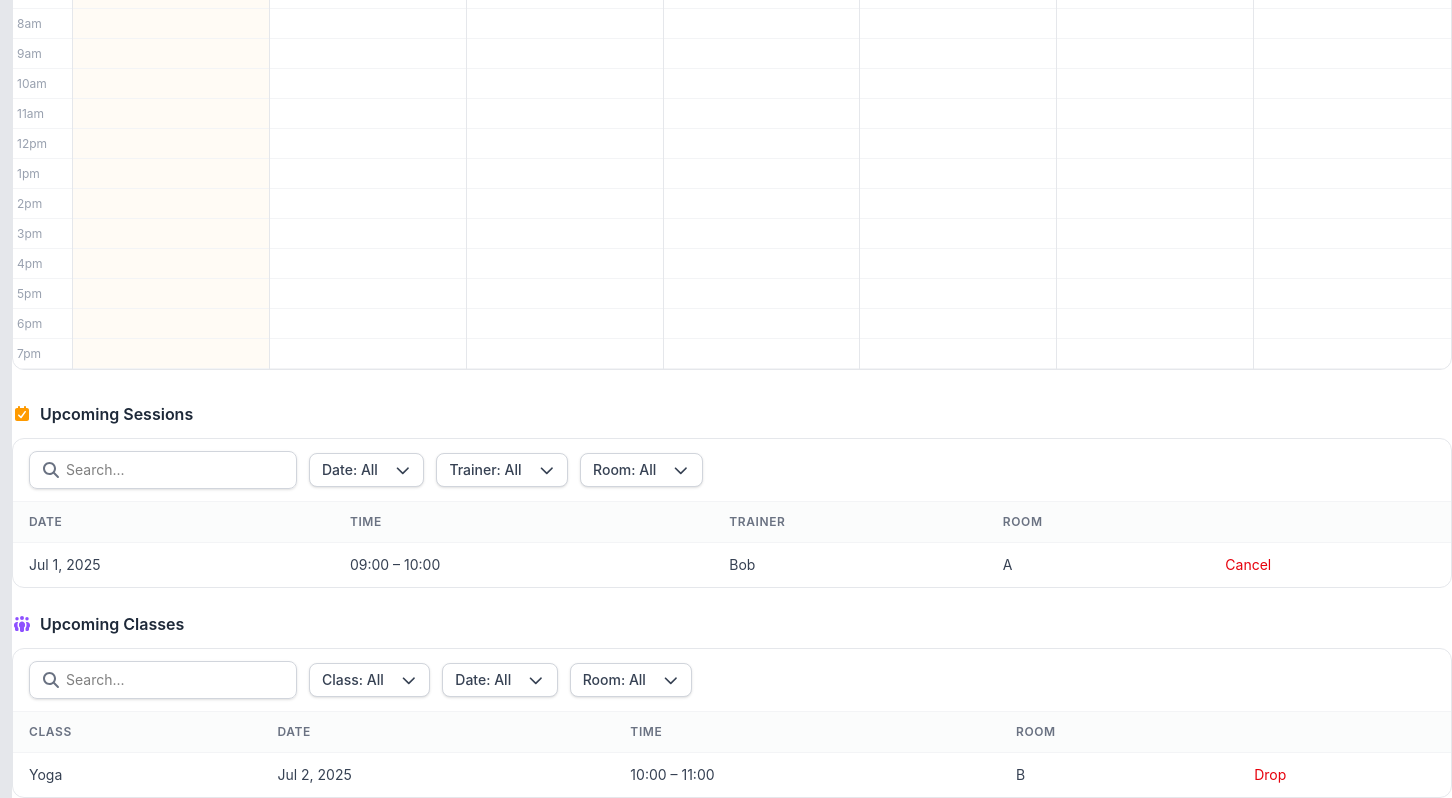
Scenario: MySchedule page › opens cancel session dialog from table Cancel button
This screenshot has width=1452, height=798.
(page scrolled)
Check: the heading "Upcoming Sessions" is shown, box top-left (40, 402), bottom-right (193, 426)
Click the button "Cancel" at (1248, 565), box top-left (1225, 555), bottom-right (1271, 575)
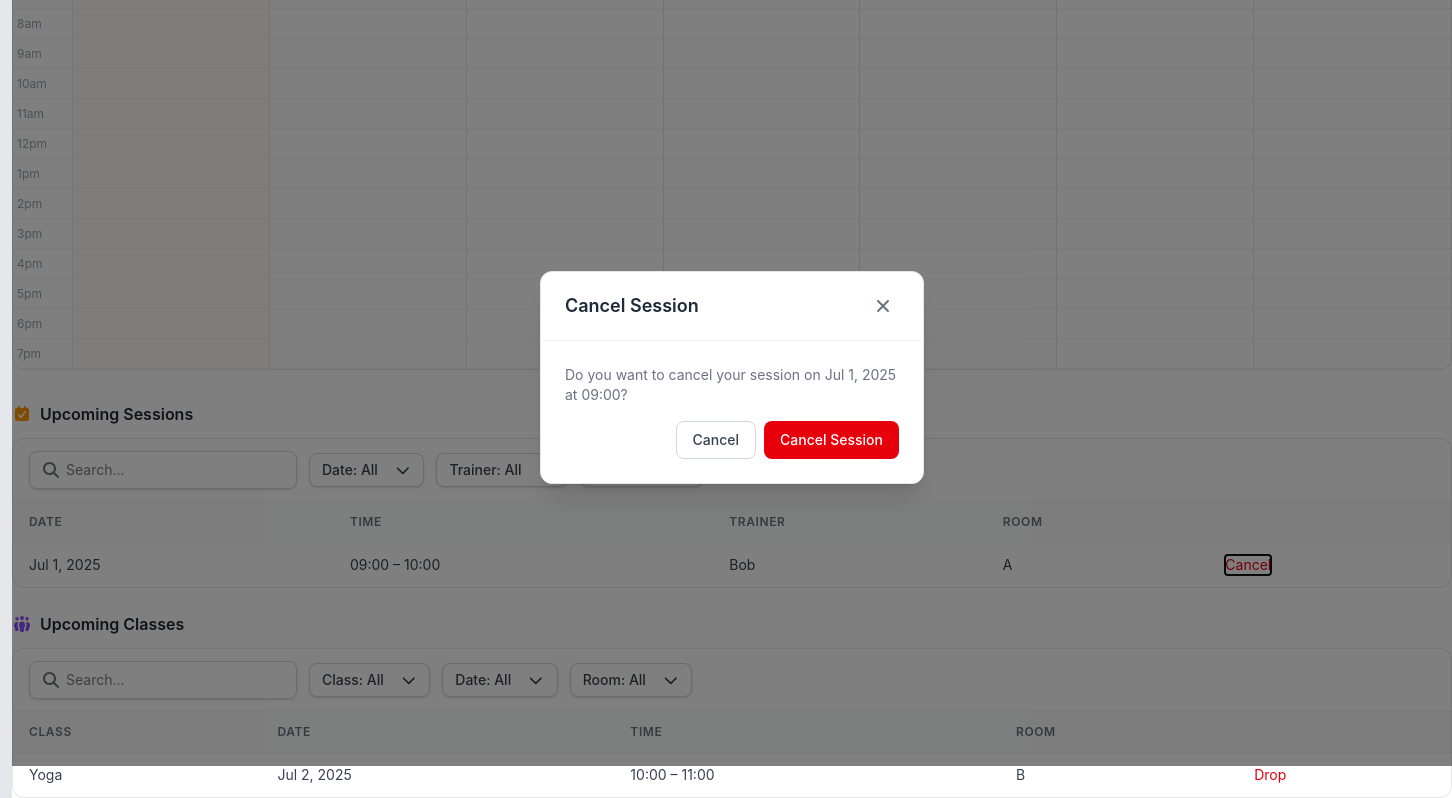
Check: the text "Do you want to cancel your session on Jul 1, 2025 at 09:00?" is shown, box top-left (565, 364), bottom-right (899, 404)
